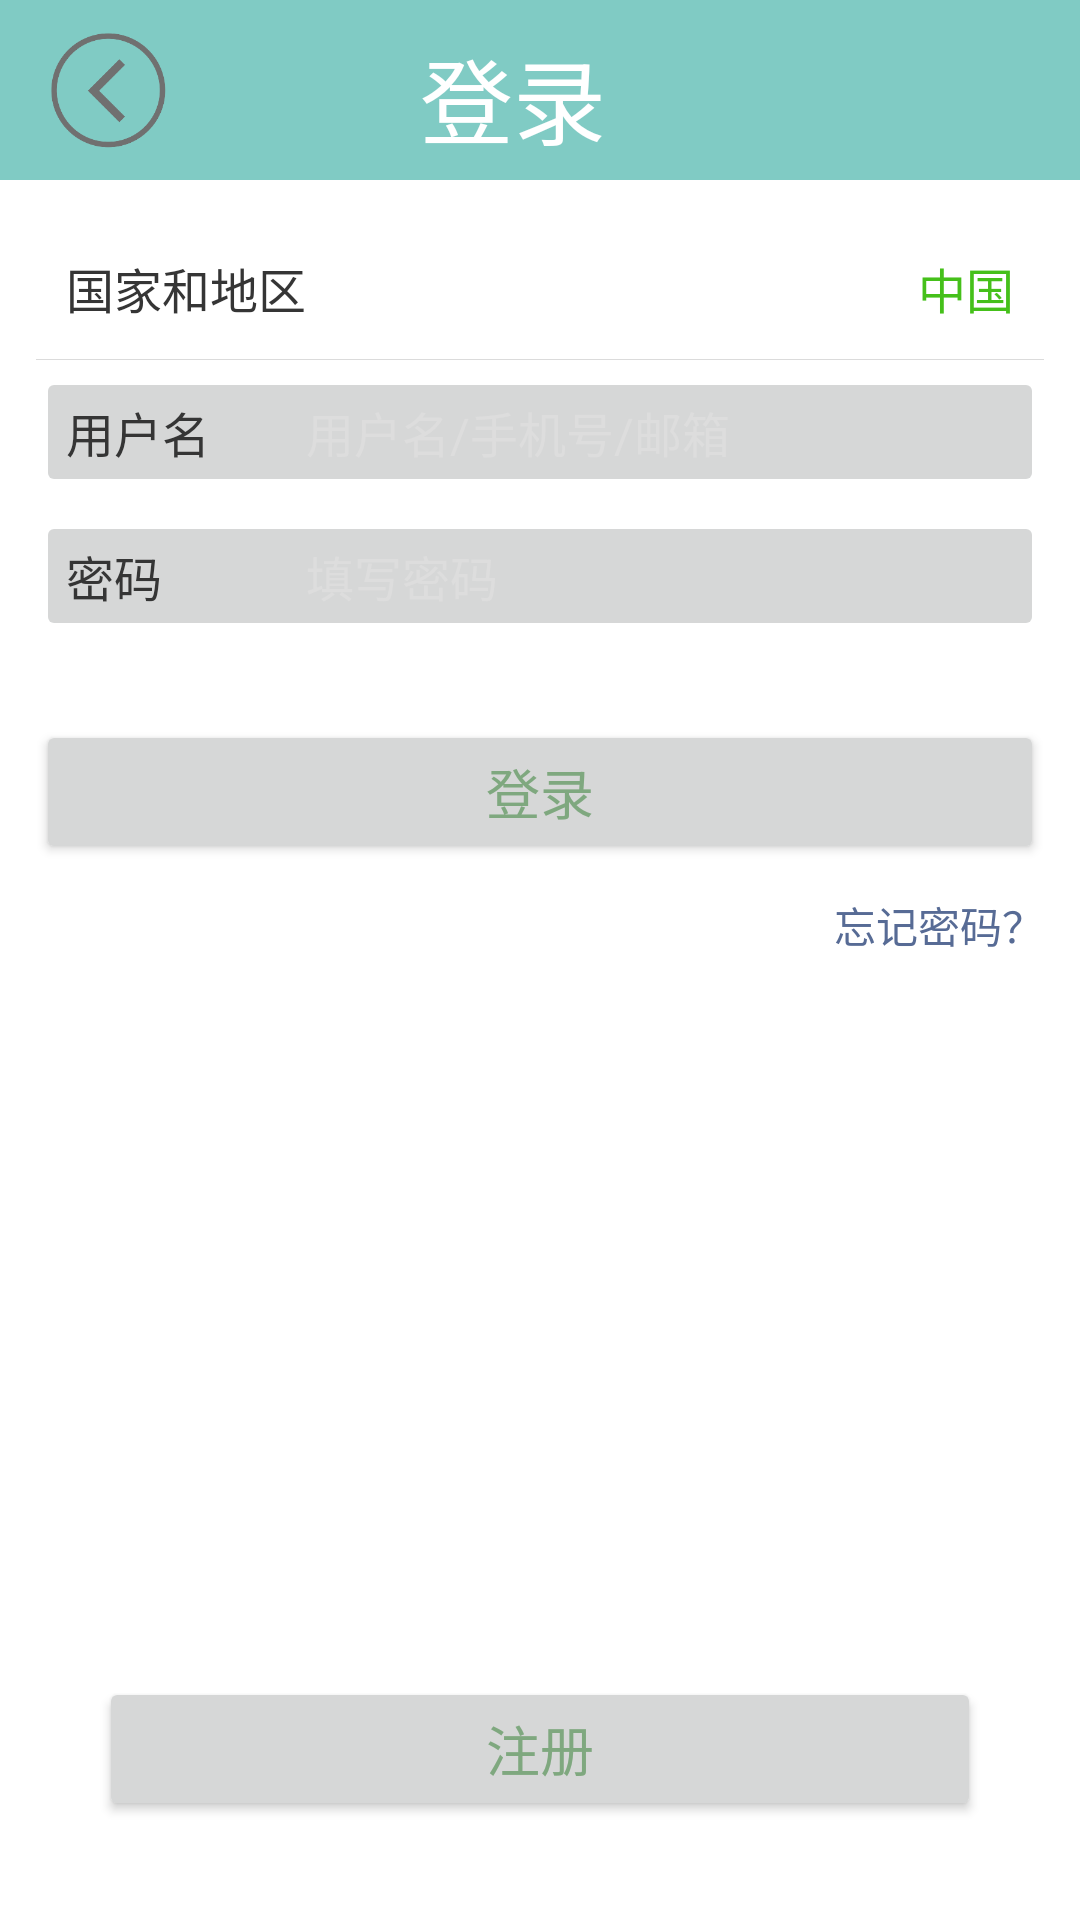

Screen size 1080 x 1920. Icon name, then its box in pixels as rect(x1, y1, x2, y2):
return: rect(51, 33, 165, 147)
